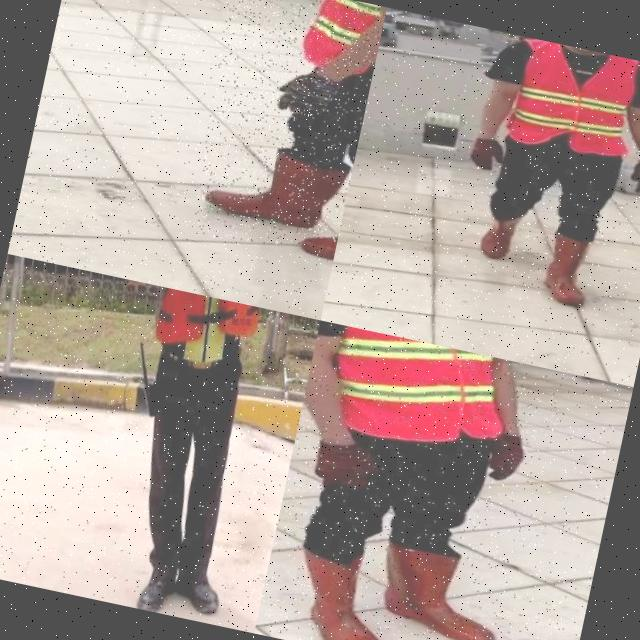boots: (366, 532, 514, 640), (201, 135, 352, 239), (280, 540, 404, 640), (536, 226, 602, 310), (294, 172, 349, 262), (474, 206, 525, 264), (132, 561, 183, 616), (172, 570, 224, 620)
vest: (316, 324, 518, 462), (498, 35, 640, 164), (142, 285, 262, 374), (291, 0, 386, 85)
